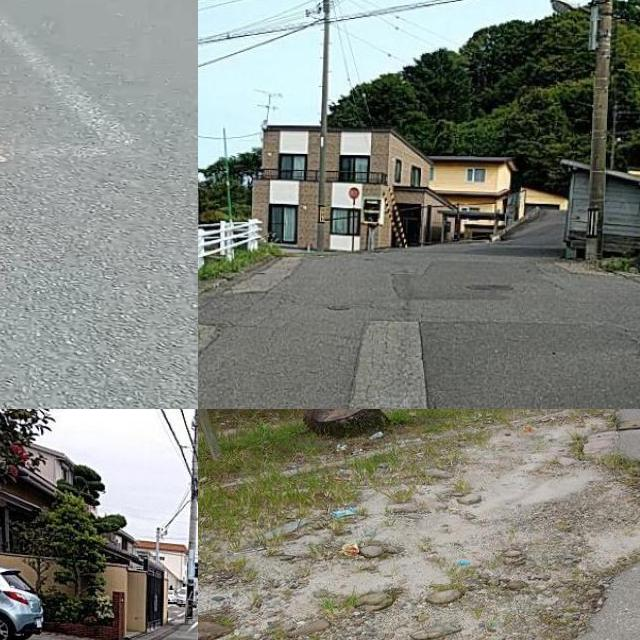Pinggir: (447, 429, 640, 640)
Sambungan: (345, 323, 429, 409)
